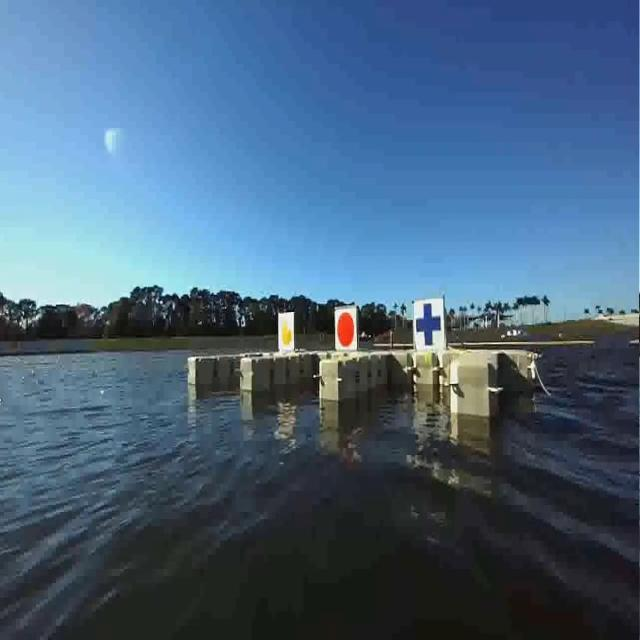blue-cross: (409, 296, 457, 352)
red-dot: (334, 303, 359, 358)
yellow-duck: (272, 307, 296, 355)
